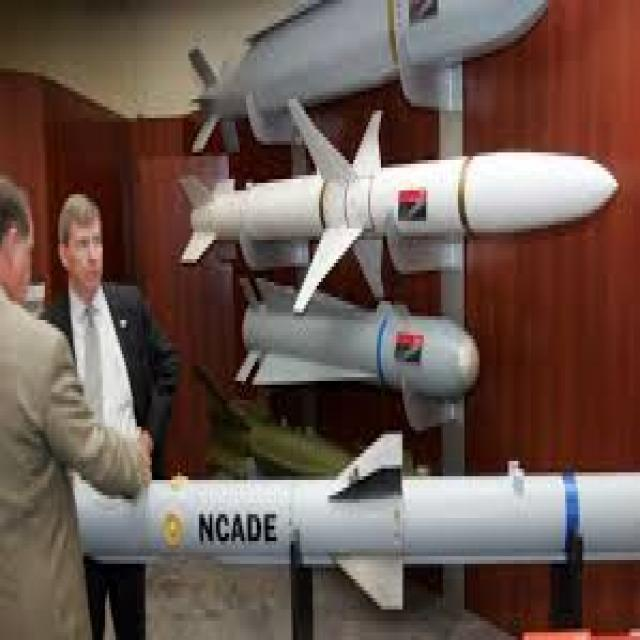Missile: (89, 430, 640, 619)
